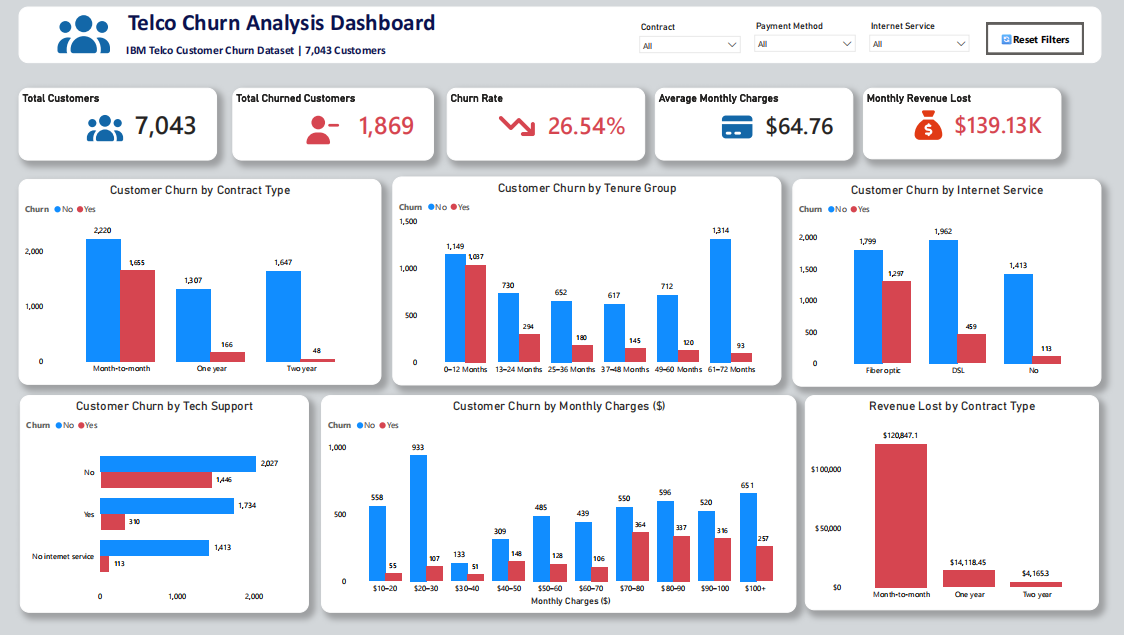

The page's visual inventory and layout, read from the dashboard file:
{"tool":"powerbi","page":{"name":"Page 1","canvas":[1800,1020],"ordinal":0},"visuals":[{"type":"cardVisual","title":"Total Customers","fields":{"Data":["Count(Telco_Cusomer_Churn.customerID)"]},"box":[30.3,144.1,316.8,115.7],"z":0},{"type":"cardVisual","title":"Total Churned Customers","fields":{"Data":["Telco_Cusomer_Churn.Total Churned Customers"]},"box":[371.9,144.1,322.1,115.7],"z":1000},{"type":"clusteredColumnChart","title":"Customer Churn by Contract Type","fields":{"Category":["Telco_Cusomer_Churn.Contract"],"Y":["Count(Telco_Cusomer_Churn.customerID)"],"Series":["Telco_Cusomer_Churn.Churn"]},"box":[30.3,290.1,580.1,329.2],"z":2000},{"type":"clusteredColumnChart","title":"Customer Churn by Internet Service","fields":{"Category":["Telco_Cusomer_Churn.InternetService"],"Y":["CountNonNull(Telco_Cusomer_Churn.customerID)"],"Series":["Telco_Cusomer_Churn.Churn"]},"box":[1268,290,494,332],"z":3000},{"type":"clusteredBarChart","title":"Customer Churn by Tech Support","fields":{"Category":["Telco_Cusomer_Churn.TechSupport"],"Y":["CountNonNull(Telco_Cusomer_Churn.customerID)"],"Series":["Telco_Cusomer_Churn.Churn"]},"box":[32,636,462,348],"z":4000},{"type":"clusteredColumnChart","title":"Customer Churn by Tenure Group","fields":{"Category":["Telco_Cusomer_Churn.Tenure Group"],"Y":["CountNonNull(Telco_Cusomer_Churn.customerID)"],"Series":["Telco_Cusomer_Churn.Churn"]},"box":[628,286,622,334],"z":5000},{"type":"cardVisual","title":"Churn Rate","fields":{"Data":["Telco_Cusomer_Churn.Churn Rate"]},"box":[715.4,144.1,316.8,115.7],"z":6000},{"type":"image","box":[126.3,179.7,83.6,58.7],"z":7000},{"type":"cardVisual","title":"Average Monthly Charges","fields":{"Data":["Telco_Cusomer_Churn.Average Monthly Charges"]},"box":[1048.1,144.1,316.8,115.6],"z":8000},{"type":"image","box":[1128.2,176.2,101.4,60.5],"z":9000},{"type":"image","box":[57.1,17.1,92.9,71.4],"z":10000},{"type":"image","box":[469.8,181.5,89,58.7],"z":11000},{"type":"image","box":[774.1,172.6,105,64.1],"z":12000},{"type":"textbox","box":[30,14,1732,90],"z":13000},{"type":"textbox","box":[192.9,65.7,538.6,35.7],"z":14000},{"type":"image","box":[74.3,17.1,118.6,84.3],"z":15000},{"type":"cardVisual","title":"Monthly Revenue Lost","fields":{"Data":["Telco_Cusomer_Churn.Revenue Lost"]},"box":[1380.9,144.1,316.8,113.9],"z":16000},{"type":"slicer","fields":{"Values":["Telco_Cusomer_Churn.Contract"]},"box":[1012,32,184,58],"z":17000},{"type":"slicer","fields":{"Values":["Telco_Cusomer_Churn.InternetService"]},"box":[1380,30,182,60],"z":18000},{"type":"slicer","fields":{"Values":["Telco_Cusomer_Churn.PaymentMethod"]},"box":[1196,30,184,60],"z":19000},{"type":"actionButton","box":[1578,40,156,50],"z":20000},{"type":"clusteredColumnChart","title":"Customer Churn by Monthly Charges ($)","fields":{"Series":["Telco_Cusomer_Churn.Churn"],"Category":["Telco_Cusomer_Churn.Monthly Charges Label"],"Y":["Count(Telco_Cusomer_Churn.customerID)"]},"box":[514,636,760,348],"z":21000},{"type":"clusteredColumnChart","title":"Revenue Lost by Contract Type","fields":{"Category":["Telco_Cusomer_Churn.Contract"],"Y":["Telco_Cusomer_Churn.Revenue Lost"]},"box":[1288,636,470,344],"z":22000},{"type":"image","box":[1437.9,174.4,94.3,58.7],"z":23000}]}

Visuals, with their boxes in screenshot pixels (x1, y1, x2, y2), scaled from the page's 1800x1020 canvas onto the 1124x635 screenshot:
"Total Customers" cardVisual: rect(19, 90, 217, 162)
"Total Churned Customers" cardVisual: rect(232, 90, 433, 162)
"Customer Churn by Contract Type" clusteredColumnChart: rect(19, 181, 381, 386)
"Customer Churn by Internet Service" clusteredColumnChart: rect(792, 181, 1100, 387)
"Customer Churn by Tech Support" clusteredBarChart: rect(20, 396, 308, 613)
"Customer Churn by Tenure Group" clusteredColumnChart: rect(392, 178, 781, 386)
"Churn Rate" cardVisual: rect(447, 90, 645, 162)
image: rect(79, 112, 131, 148)
"Average Monthly Charges" cardVisual: rect(654, 90, 852, 162)
image: rect(704, 110, 768, 147)
image: rect(36, 11, 94, 55)
image: rect(293, 113, 349, 150)
image: rect(483, 107, 549, 147)
textbox: rect(19, 9, 1100, 65)
textbox: rect(120, 41, 457, 63)
image: rect(46, 11, 120, 63)
"Monthly Revenue Lost" cardVisual: rect(862, 90, 1060, 161)
slicer - Telco_Cusomer_Churn.Contract: rect(632, 20, 747, 56)
slicer - Telco_Cusomer_Churn.InternetService: rect(862, 19, 975, 56)
slicer - Telco_Cusomer_Churn.PaymentMethod: rect(747, 19, 862, 56)
actionButton: rect(985, 25, 1083, 56)
"Customer Churn by Monthly Charges ($)" clusteredColumnChart: rect(321, 396, 796, 613)
"Revenue Lost by Contract Type" clusteredColumnChart: rect(804, 396, 1098, 610)
image: rect(898, 109, 957, 145)
